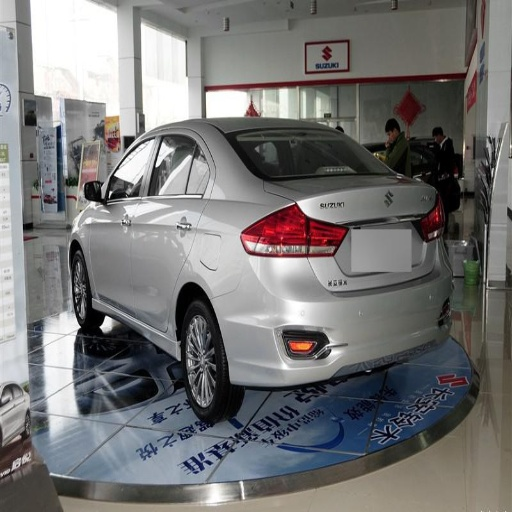back_bumper: (214, 259, 450, 387)
back_glass: (225, 130, 391, 179)
back_left_door: (131, 127, 210, 329)
front_left_door: (91, 132, 157, 314)
